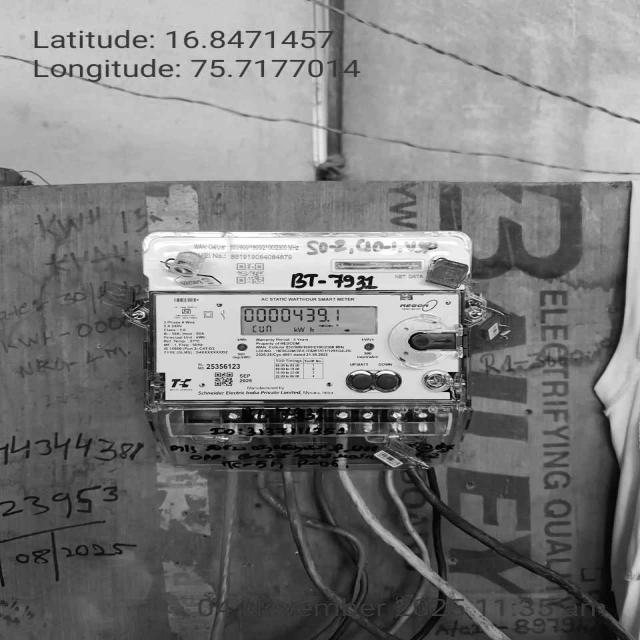meter: (149, 230, 468, 404)
